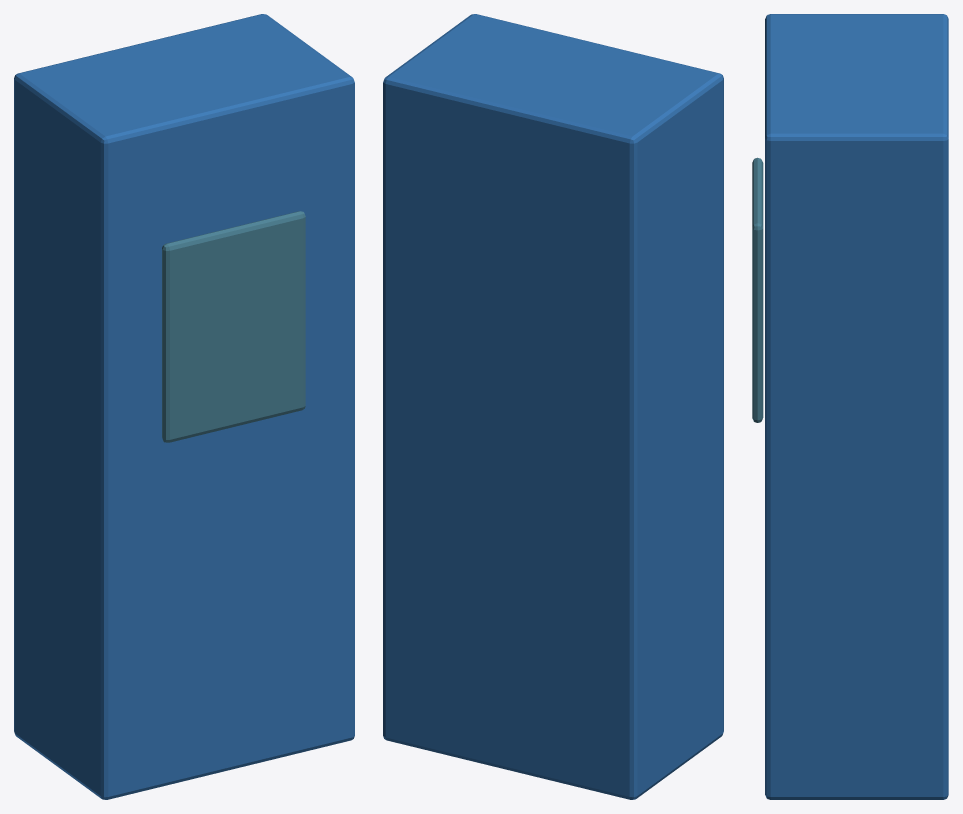
Rendered from Prop_Street_014.glb.
The picture shows the model from 3 angles, left to right: view 1: azimuth 30°, elevation 25°; view 2: azimuth 150°, elevation 25°; view 3: azimuth 270°, elevation 25°; orthographic projection.
Visible parts, largest first — view 1: Prop_Street_014; view 2: Prop_Street_014; view 3: Prop_Street_014.
Boxes of the visible parts, x1,y1,x2,y2 form: Prop_Street_014: (14, 14, 354, 799); Prop_Street_014: (383, 14, 723, 799); Prop_Street_014: (752, 14, 948, 799).
Size of the model in its own units: 0.8 by 2 by 0.535.
